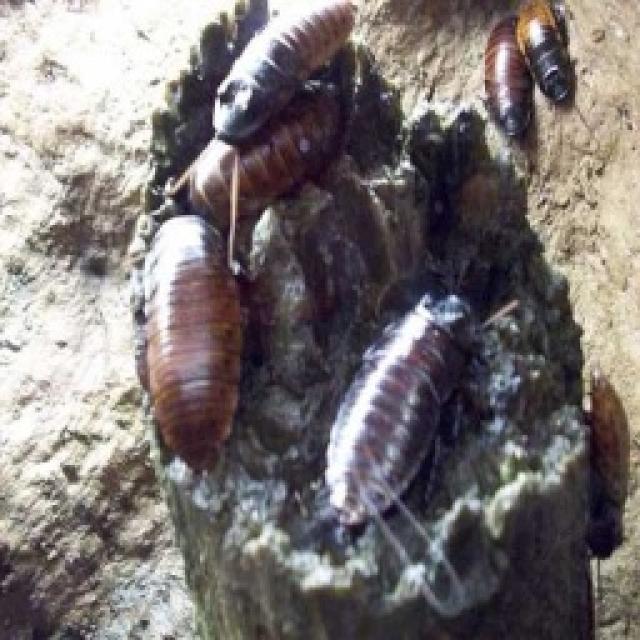cockroach: (102, 191, 268, 474), (318, 275, 499, 528), (170, 75, 362, 230), (209, 0, 382, 143), (582, 355, 632, 573), (514, 2, 594, 128), (479, 11, 530, 158)
